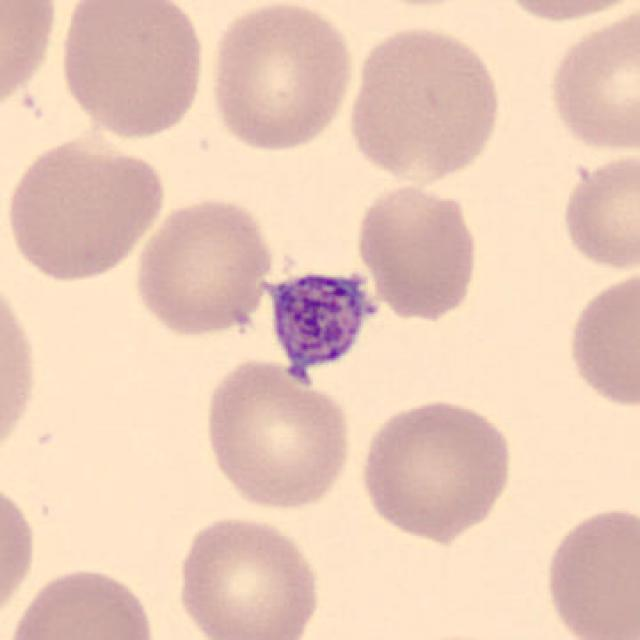Platelets: (256, 259, 386, 392)
RBC: (341, 21, 507, 187), (2, 132, 169, 286), (199, 356, 357, 515), (354, 393, 517, 545), (205, 0, 358, 155), (128, 192, 277, 340), (55, 0, 210, 141), (170, 511, 324, 640), (350, 180, 484, 322), (544, 5, 640, 157), (538, 500, 638, 640), (3, 562, 162, 640), (562, 266, 640, 413), (556, 146, 638, 274), (0, 266, 43, 473), (0, 0, 62, 115), (0, 471, 39, 631), (492, 0, 639, 26)
